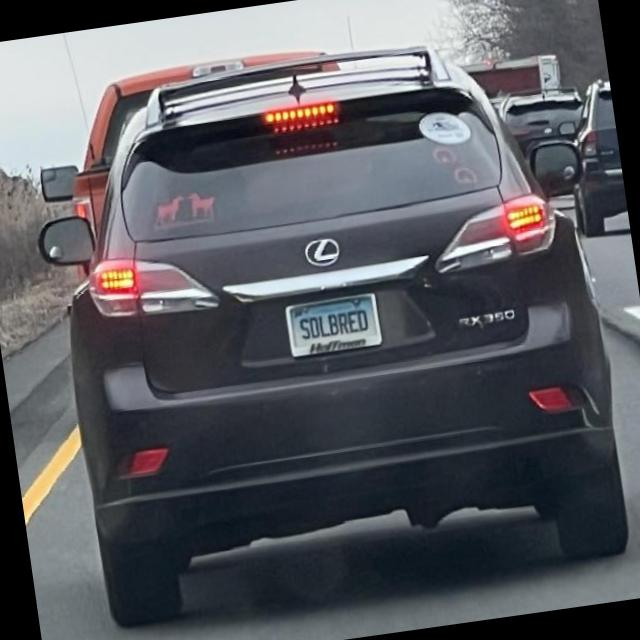LicensePlate: (284, 293, 383, 358)
